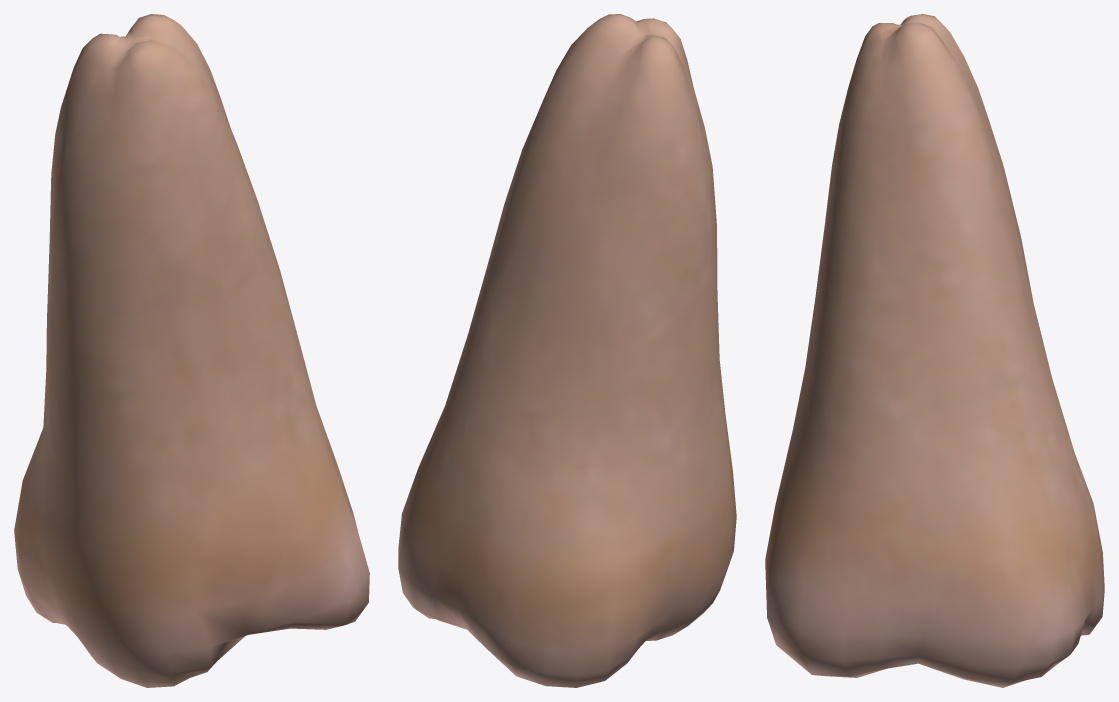
3 views of the same model, side by side, from view 1: azimuth 30°, elevation 25°; view 2: azimuth 150°, elevation 25°; view 3: azimuth 270°, elevation 25° (orthographic). The views are drawn at different scales.
Parts seen in each view (by area): view 1: t_28; view 2: t_28; view 3: t_28.
Part boxes in pixels (<box>): t_28: <box>14,14,369,687</box>; t_28: <box>398,14,736,687</box>; t_28: <box>765,14,1104,687</box>.
Size of the model in its own units: 0.073 by 0.1672 by 0.083.
1 material, 1 textured.
